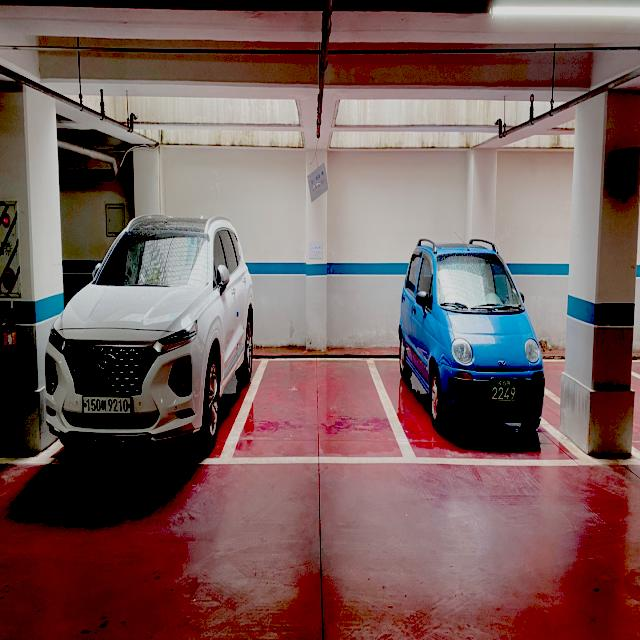empty: (218, 355, 418, 463)
occupied: (44, 212, 232, 448), (402, 237, 544, 441)
